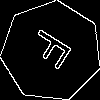F: (26, 26, 82, 77)
